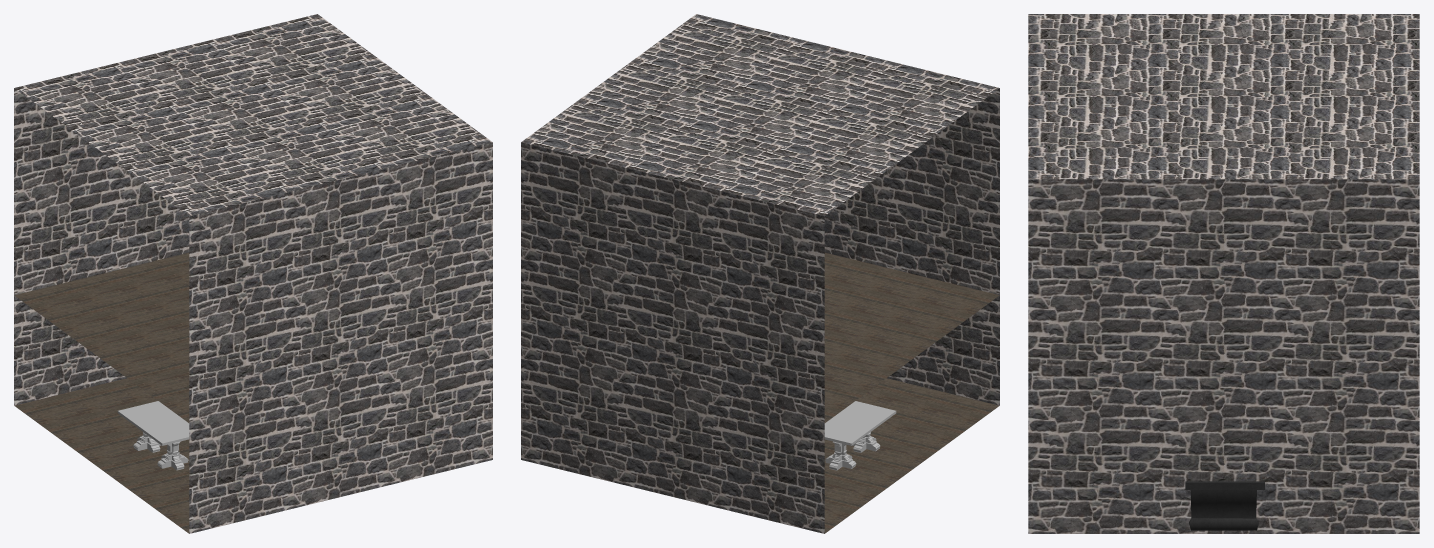
Rendered from house.fbx.
The picture shows the model from 3 angles, left to right: view 1: azimuth 30°, elevation 25°; view 2: azimuth 150°, elevation 25°; view 3: azimuth 270°, elevation 25°; orthographic projection. The views are drawn at different scales.
Visible parts, largest first — view 1: Walls, Plane.001, Plane, table; view 2: Walls, Plane.001, Plane, table; view 3: Walls, Kamin.
Part boxes in pixels (bbox=[...]): Walls: bbox=[14, 14, 492, 533]; Plane.001: bbox=[14, 252, 189, 422]; Plane: bbox=[14, 378, 189, 533]; table: bbox=[117, 401, 189, 470]; Walls: bbox=[521, 14, 999, 533]; Plane.001: bbox=[824, 252, 999, 422]; Plane: bbox=[824, 378, 999, 533]; table: bbox=[824, 401, 896, 470]; Walls: bbox=[1028, 14, 1419, 533]; Kamin: bbox=[1185, 481, 1264, 530].
Size of the model in its own units: 808 by 802 by 800.
